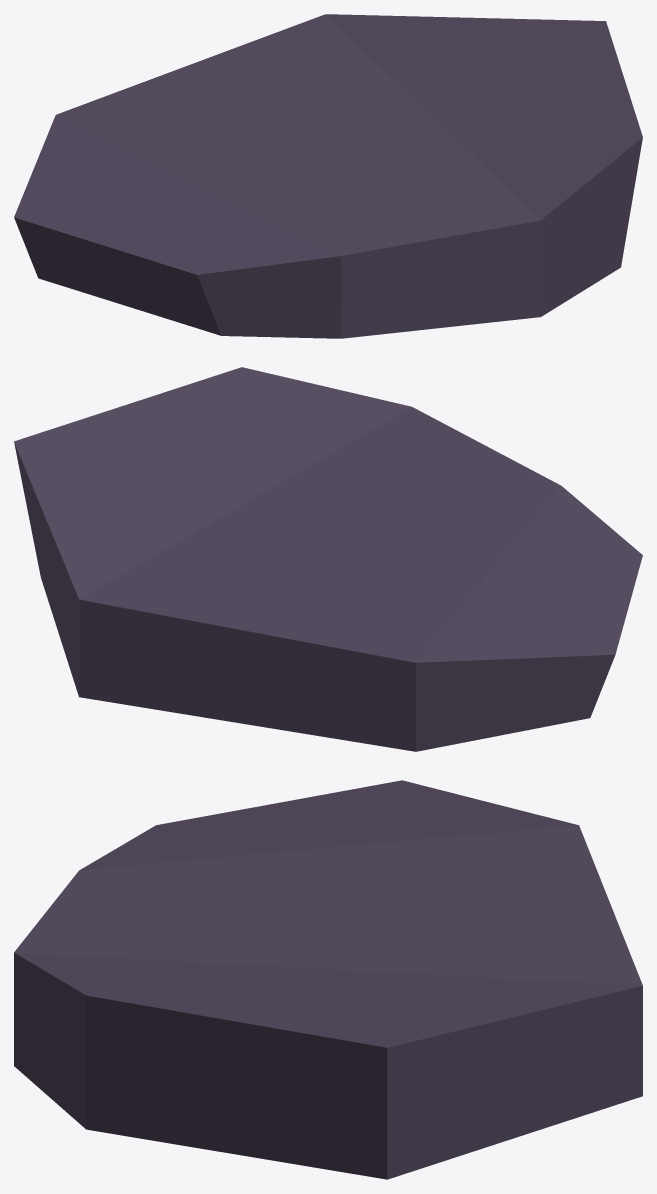
Rendered from SM_rock_small_05.fbx.
3 views of the same model, one above another, from view 1: azimuth 30°, elevation 25°; view 2: azimuth 150°, elevation 25°; view 3: azimuth 270°, elevation 25° (orthographic). The views are drawn at different scales.
Visible parts, largest first — view 1: rock_small_05; view 2: rock_small_05; view 3: rock_small_05.
Boxes of the visible parts, <box> form: rock_small_05: <box>14,14,642,338</box>; rock_small_05: <box>14,367,642,751</box>; rock_small_05: <box>14,780,642,1179</box>.
Size of the model in its own units: 77.47 by 15.78 by 61.36.
